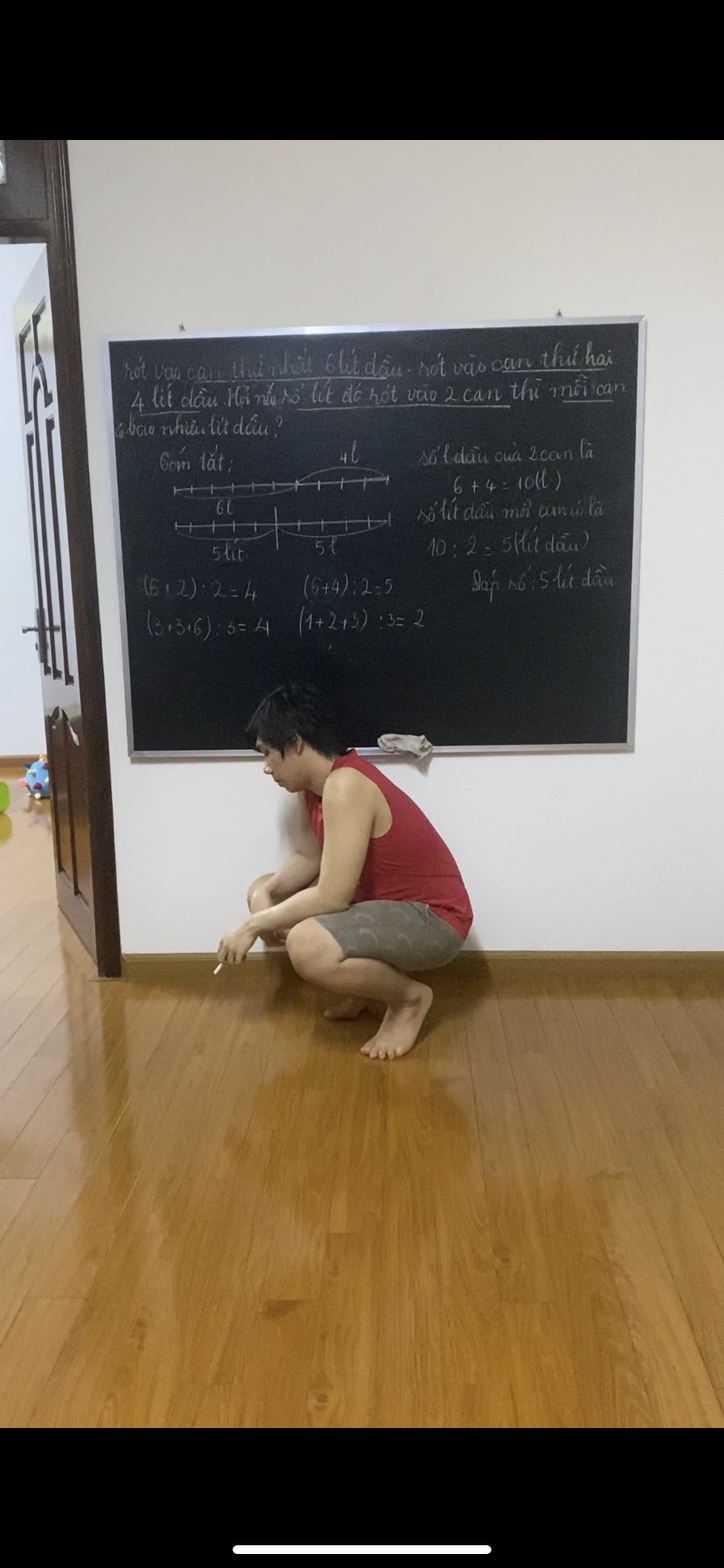cigarette: (211, 961, 226, 978)
person: (224, 675, 478, 1065)
